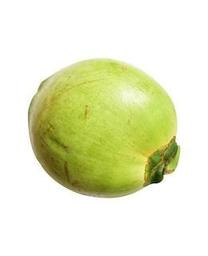coconut: (28, 59, 181, 199)
